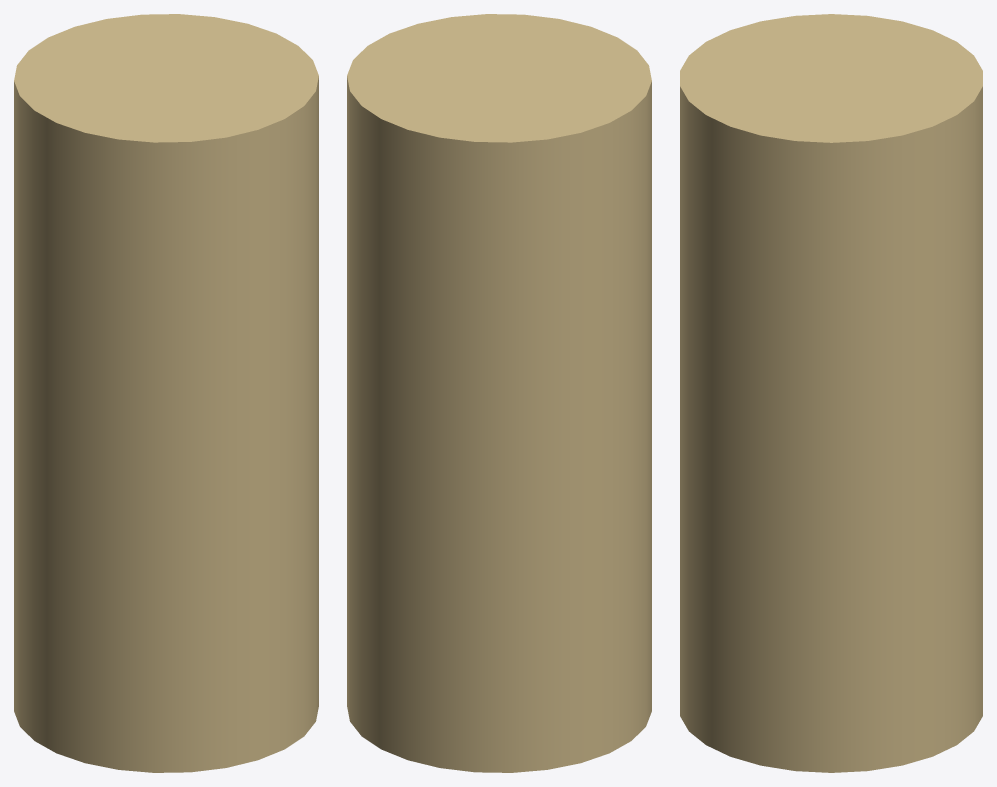
The model's file is pneumatic-schmalz-push-in-fitting.glb.
3 renders of one model, left to right at view 1: azimuth 30°, elevation 25°; view 2: azimuth 150°, elevation 25°; view 3: azimuth 270°, elevation 25°, orthographic.
Bounding box in the file's own units: 0.0086 × 0.0196 × 0.00854.
